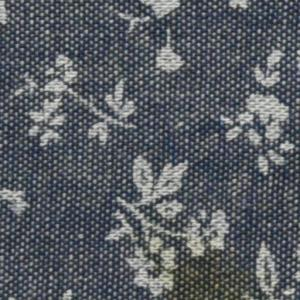Oil Stain: (129, 242, 272, 300)
